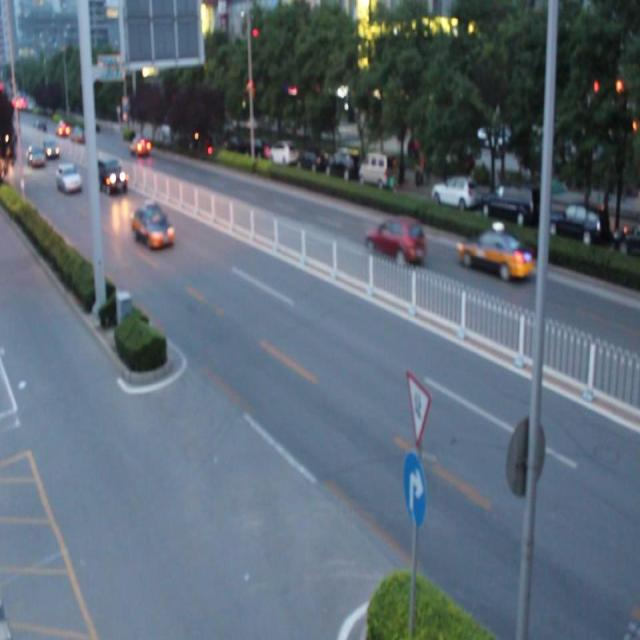car: (461, 234, 525, 278), (367, 222, 423, 263), (132, 206, 174, 246), (98, 161, 126, 190), (58, 164, 82, 190)
